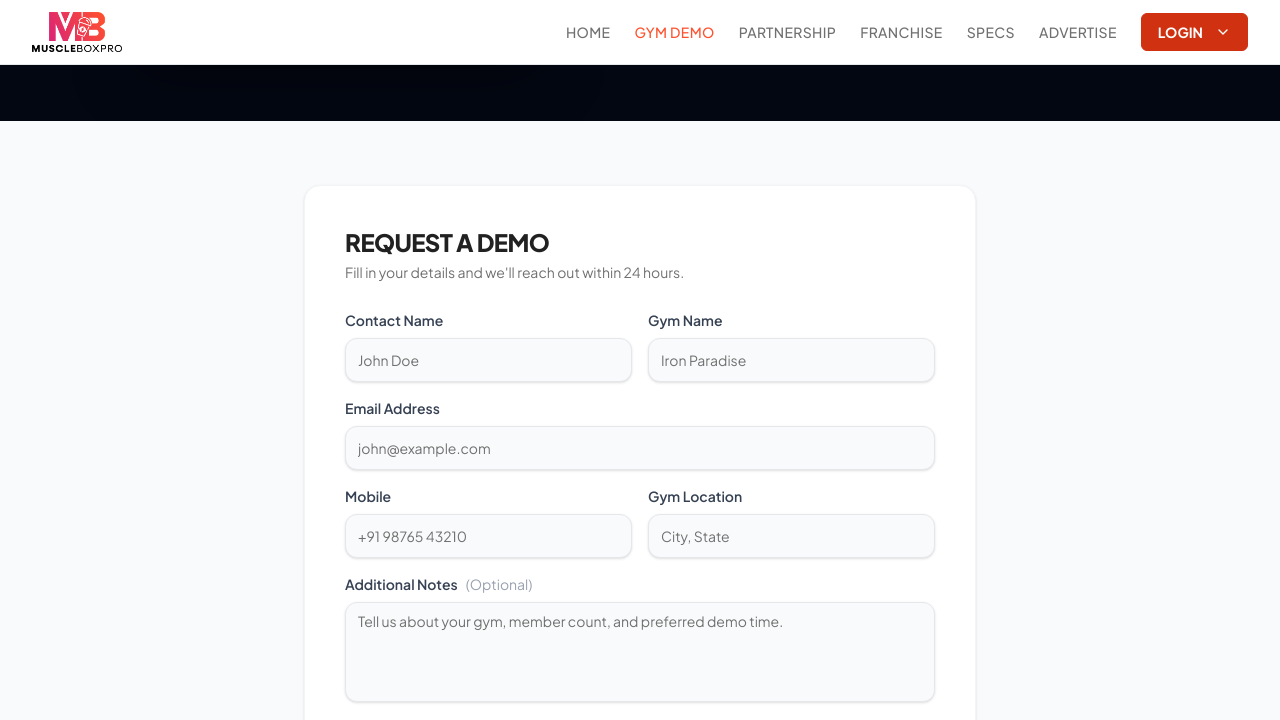
Scenario: GymDemo page › shows SUBMITTING... and disables button while submitting
(page scrolled)
Type "John Smith" into the field with placeholder "John Doe" at (488, 360), box x1=345 y1=338 x2=632 y2=382
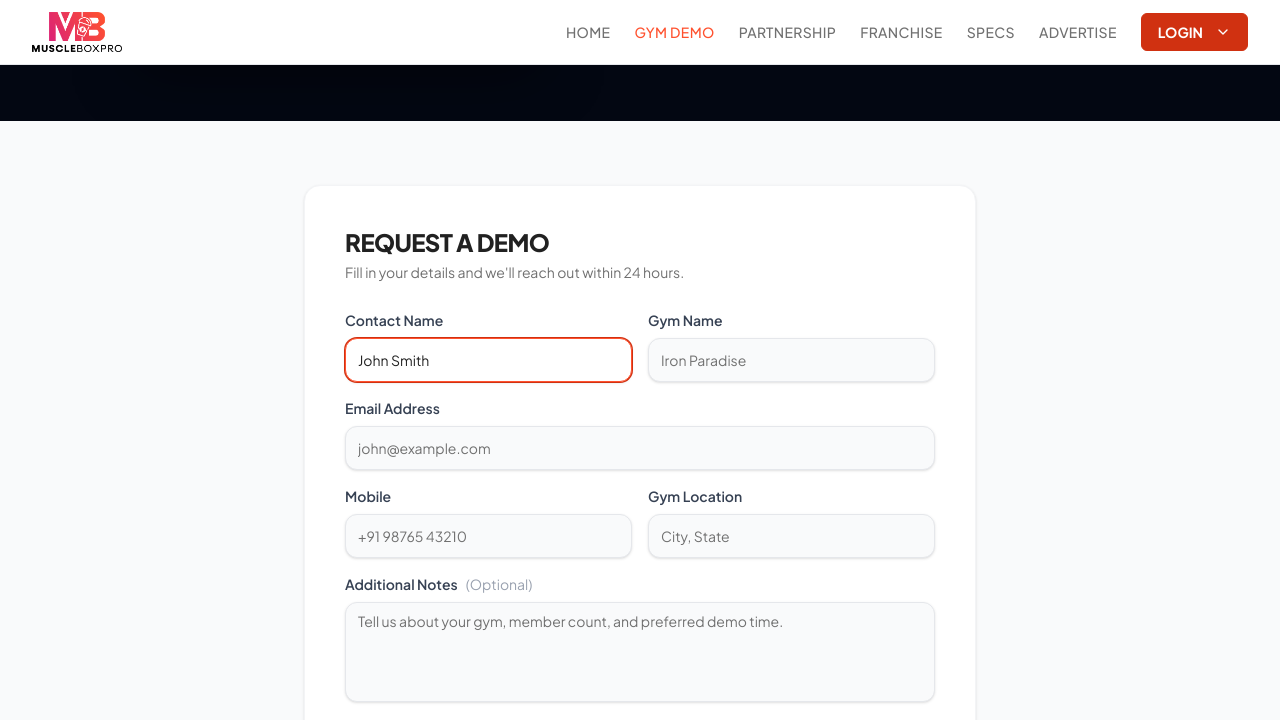
Type "Power Gym" into the field with placeholder "Iron Paradise" at (792, 360), box x1=648 y1=338 x2=935 y2=382
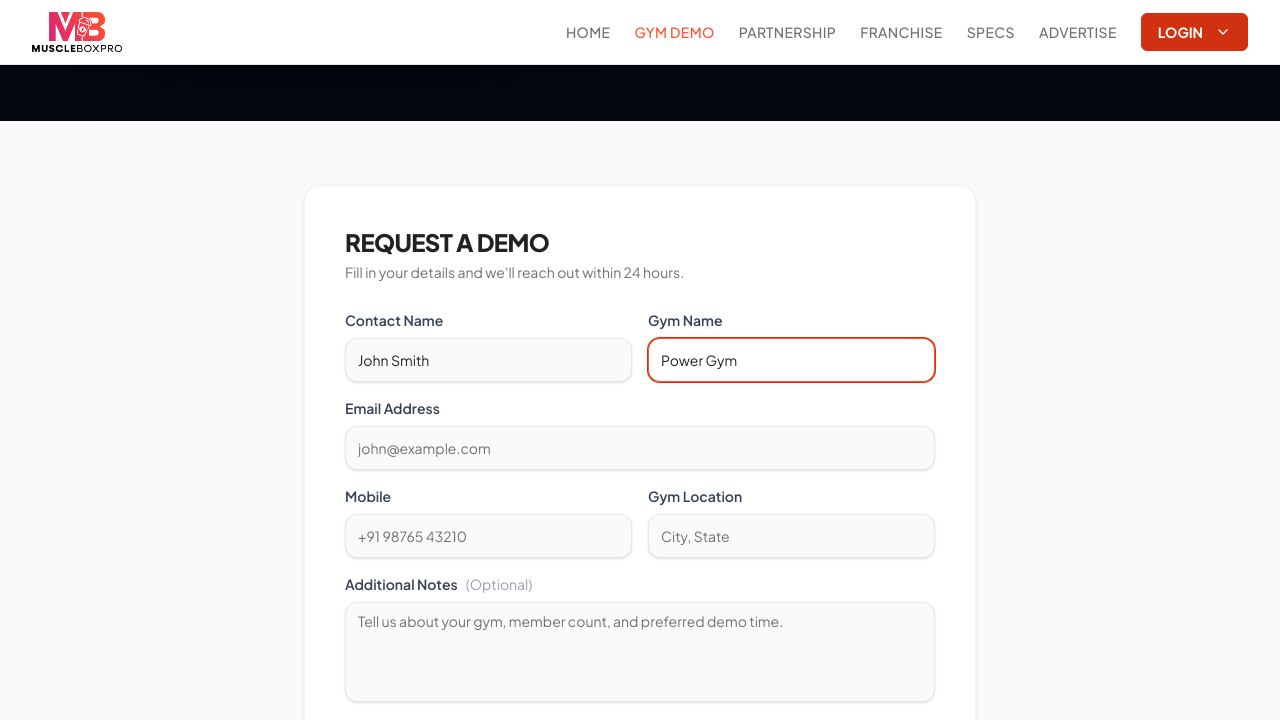
Type "john@gym.com" into the field with placeholder "john@example.com" at (640, 448), box x1=345 y1=426 x2=935 y2=470
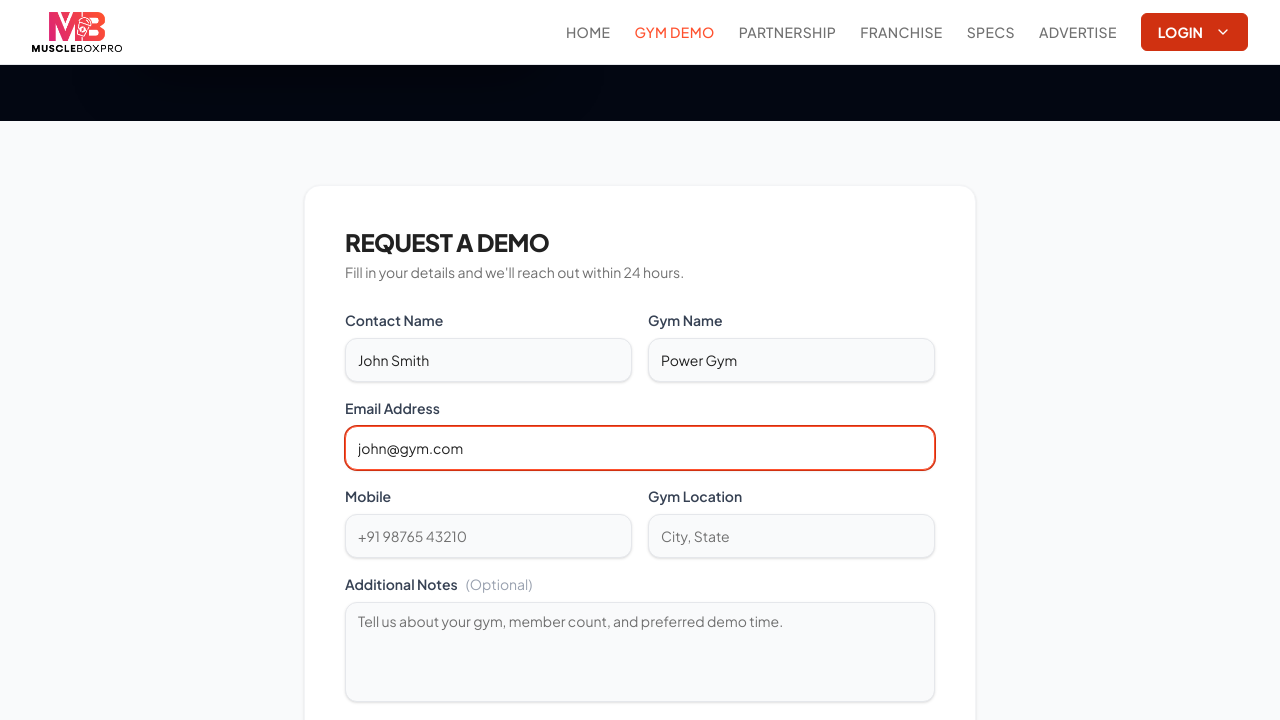
Type "9876543210" into the field with placeholder "+91 98765 43210" at (488, 536), box x1=345 y1=514 x2=632 y2=558
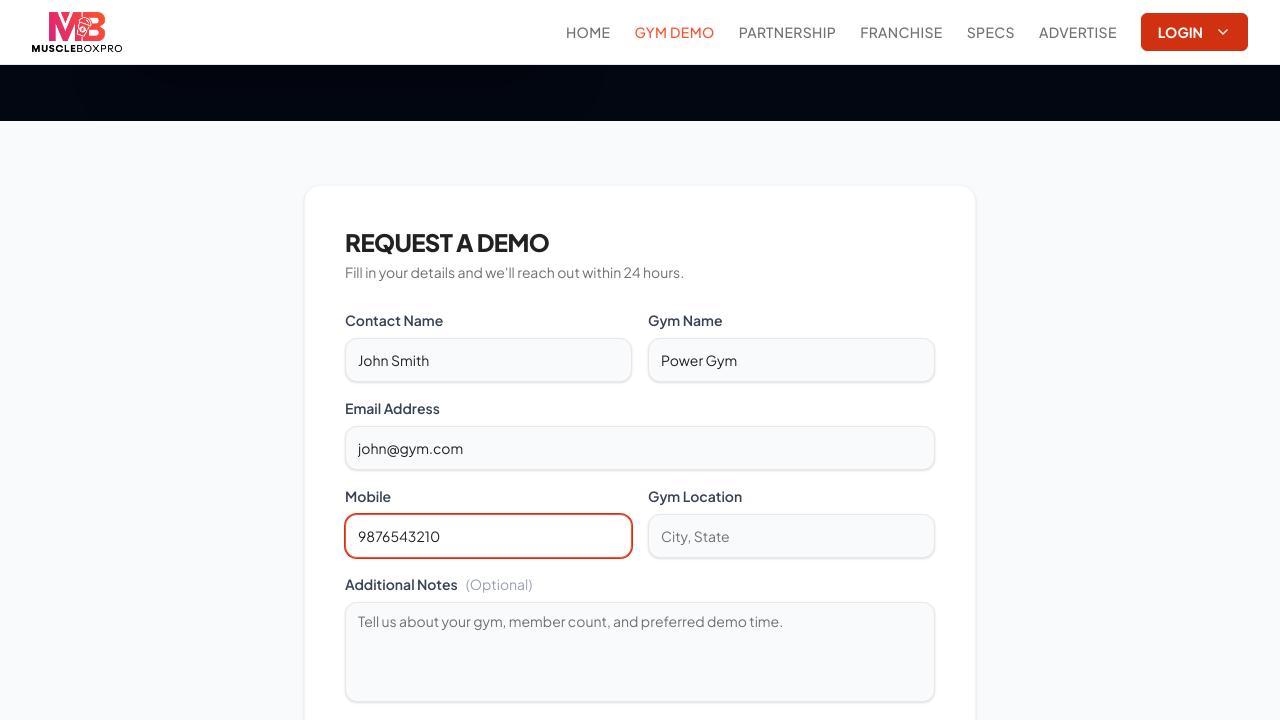
Type "Delhi" into the field with placeholder "City, State" at (792, 536), box x1=648 y1=514 x2=935 y2=558
(page scrolled)
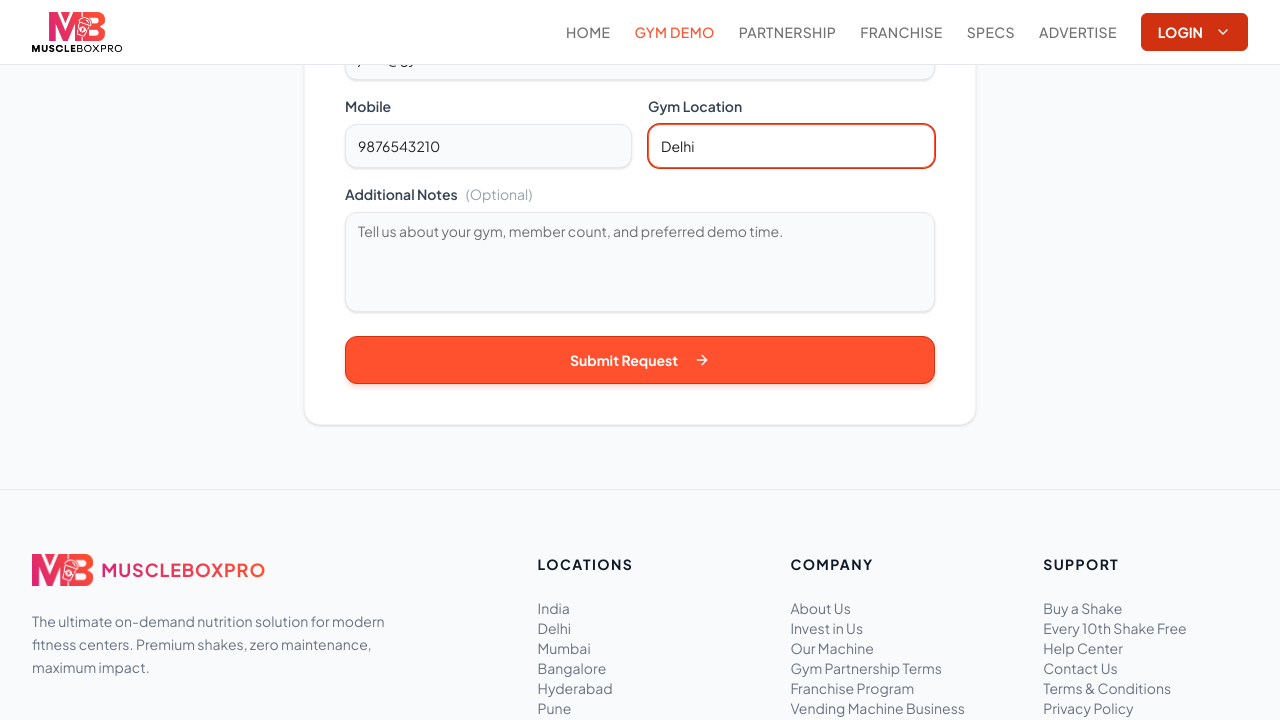
Click the button "Submit Request" at (640, 360), box x1=345 y1=336 x2=935 y2=384
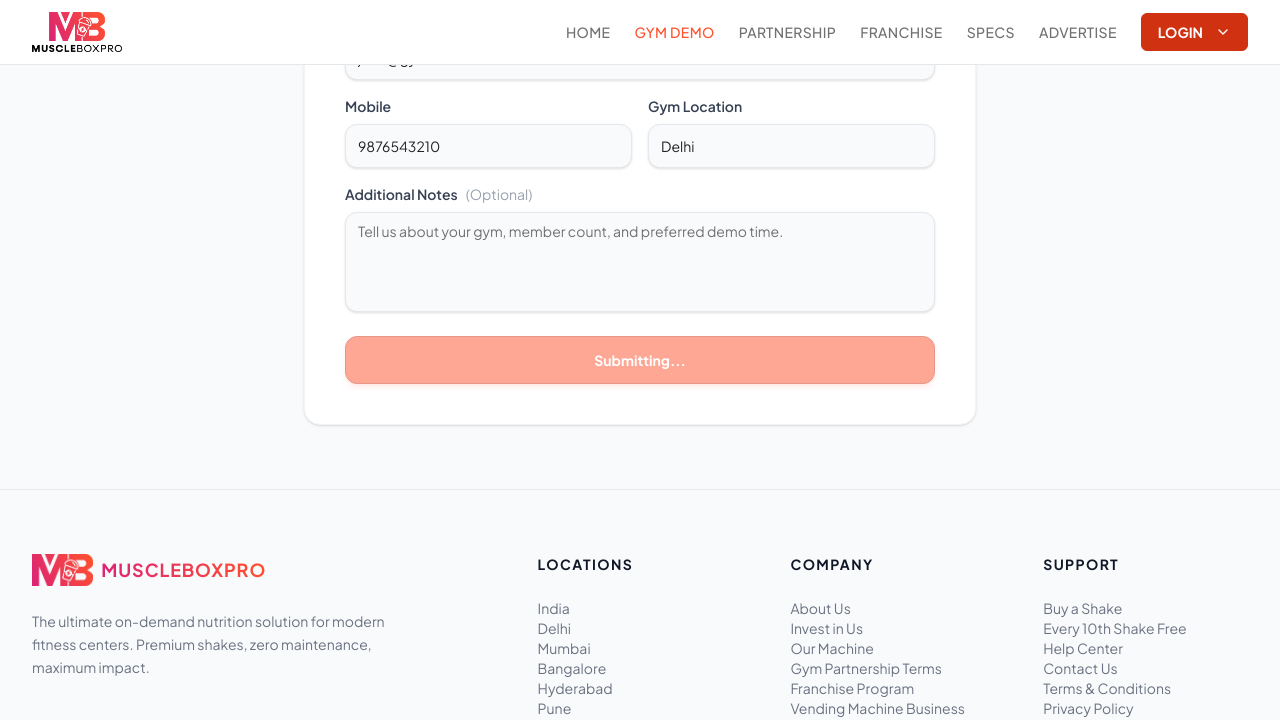
Now the button "Submitting..." is shown, box x1=345 y1=336 x2=935 y2=384
